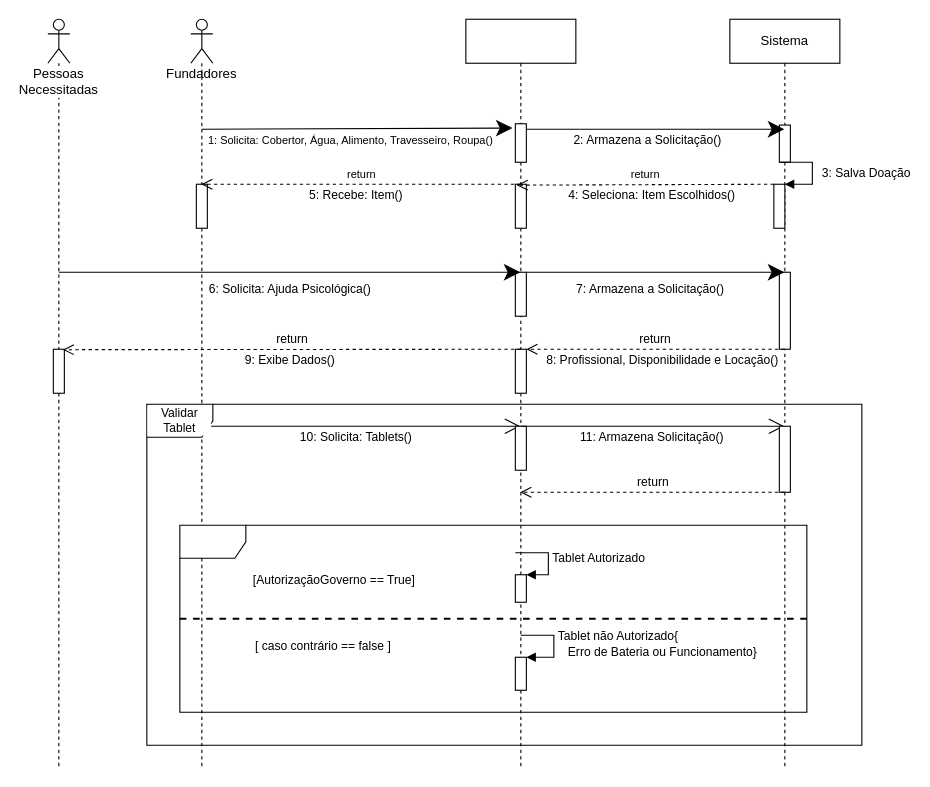
The diagram is 930 pixels wide and 787 high, and some of its shapes have lost their labels. The centre of each missing label's shape, as x and y in pixels:
alt: [493,618]
Doações: [520,392]
